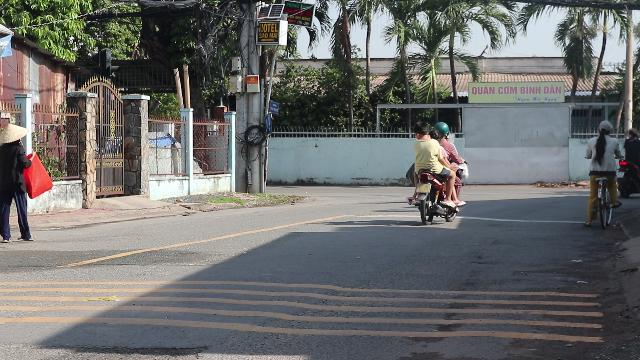helmet: (432, 121, 448, 138)
licenseplate: (416, 184, 430, 192)
motorcyclist: (404, 120, 464, 224)
nohelmet: (412, 121, 430, 140)
